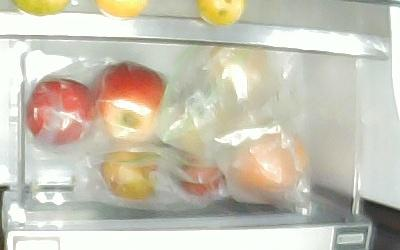apple_vinyl: (89, 60, 168, 143), (25, 76, 97, 145)
grapefruit_vinyl: (234, 127, 308, 192)
persimmon_vinyl: (99, 148, 160, 200)
prune_vinyl: (172, 155, 224, 194)
